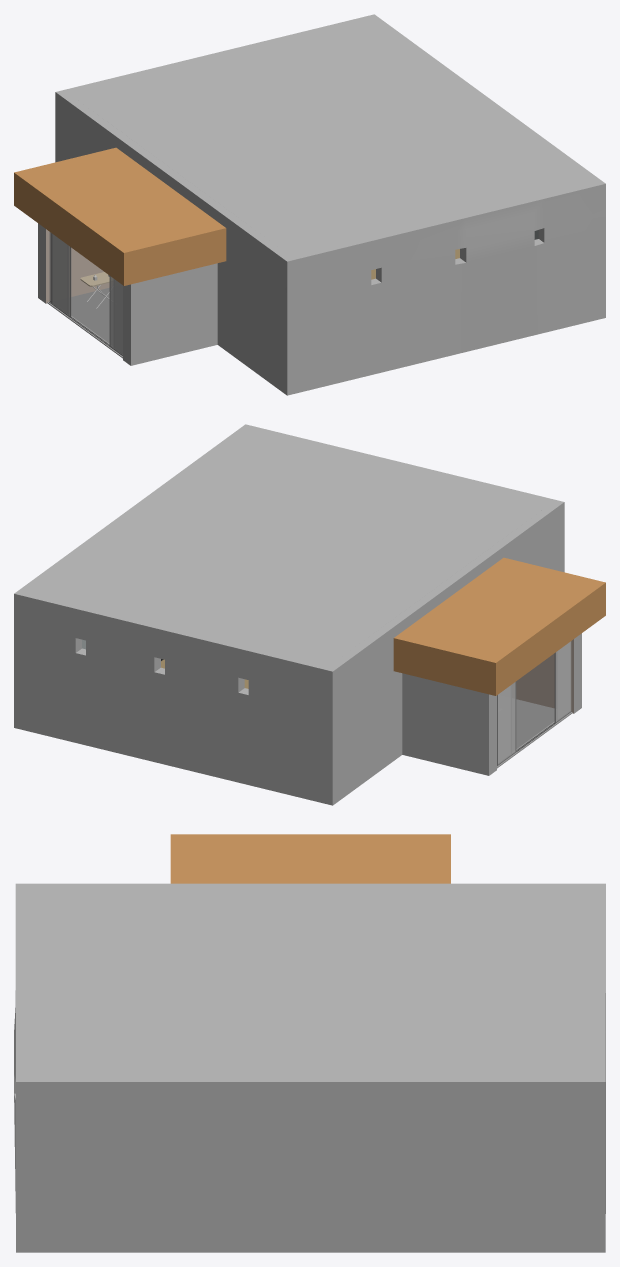
The model's file is gameArea.fbx.
The picture shows the model from 3 angles, top to bottom: view 1: azimuth 30°, elevation 25°; view 2: azimuth 150°, elevation 25°; view 3: azimuth 270°, elevation 25°; orthographic projection. The views are drawn at different scales.
Visible parts, largest first — view 1: gameArea; view 2: gameArea; view 3: gameArea.
Part boxes in pixels (x1=…): gameArea: x1=14, y1=14, x2=605, y2=395; gameArea: x1=14, y1=424, x2=605, y2=805; gameArea: x1=14, y1=834, x2=605, y2=1252.
Bounding box in the file's own units: 12.6 × 3.91 × 12.04.
